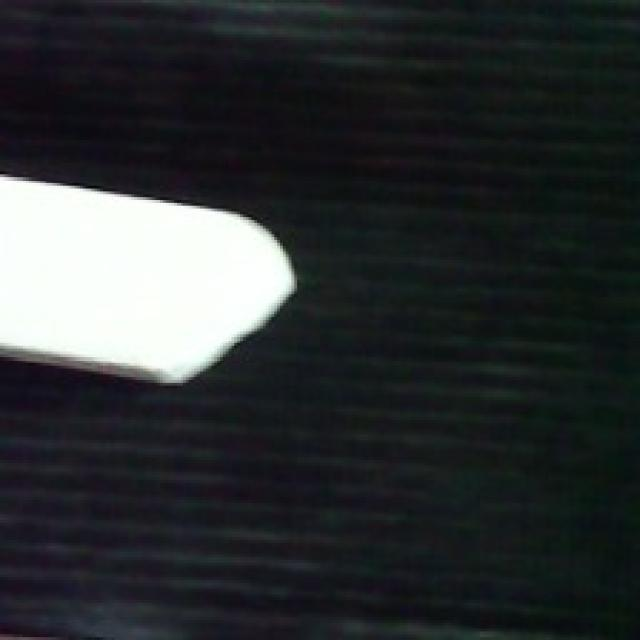defected: (0, 168, 303, 388)
